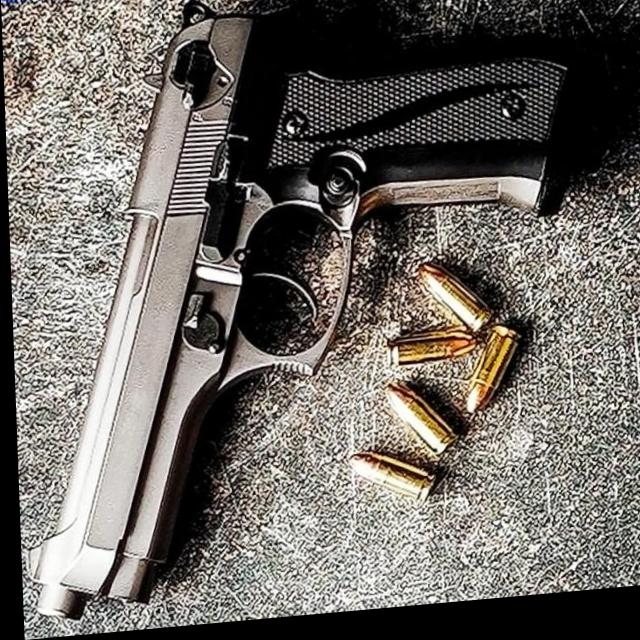handgun: (8, 0, 595, 625)
